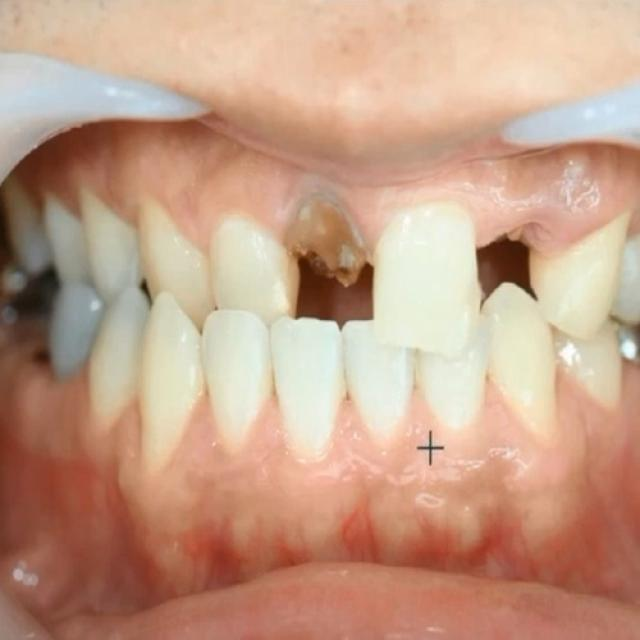Missing: (220, 229, 449, 320), (412, 219, 592, 325)
